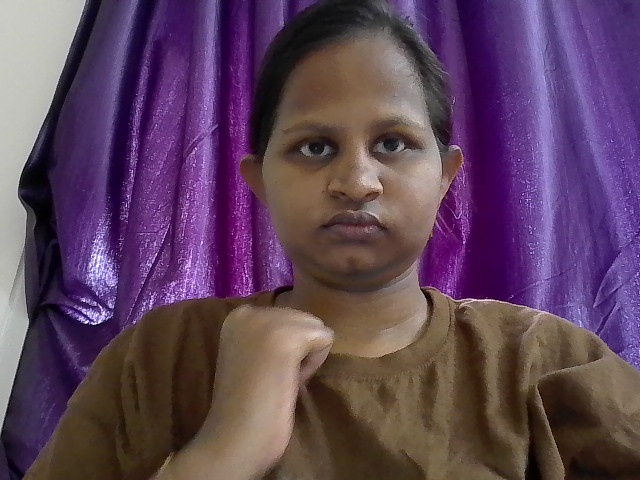YES: (143, 257, 449, 465)
